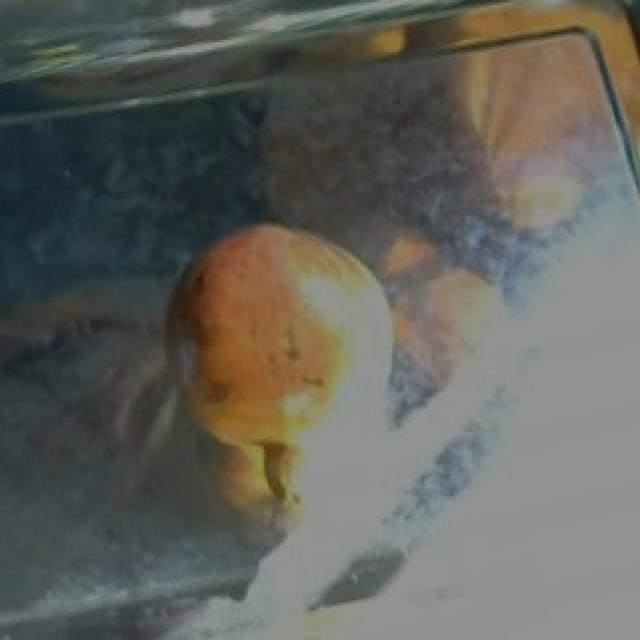fruit: (144, 198, 422, 426)
